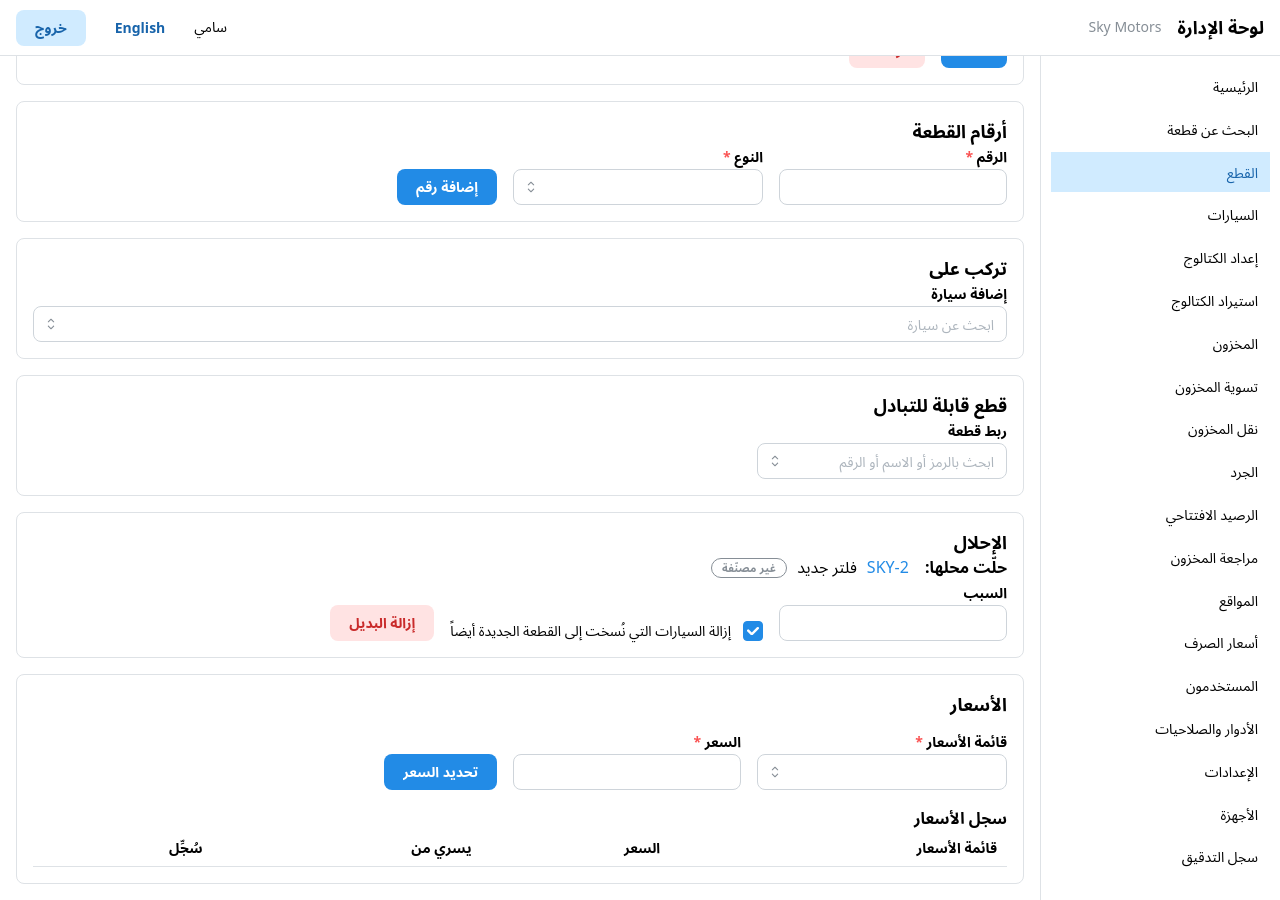
it: replacement › removes a wrong replacement, with the vehicles it copied, after asking
(page scrolled)
Type "wrong part" into the field labelled "السبب" at (893, 623), box [779,605,1007,641]
(page scrolled)
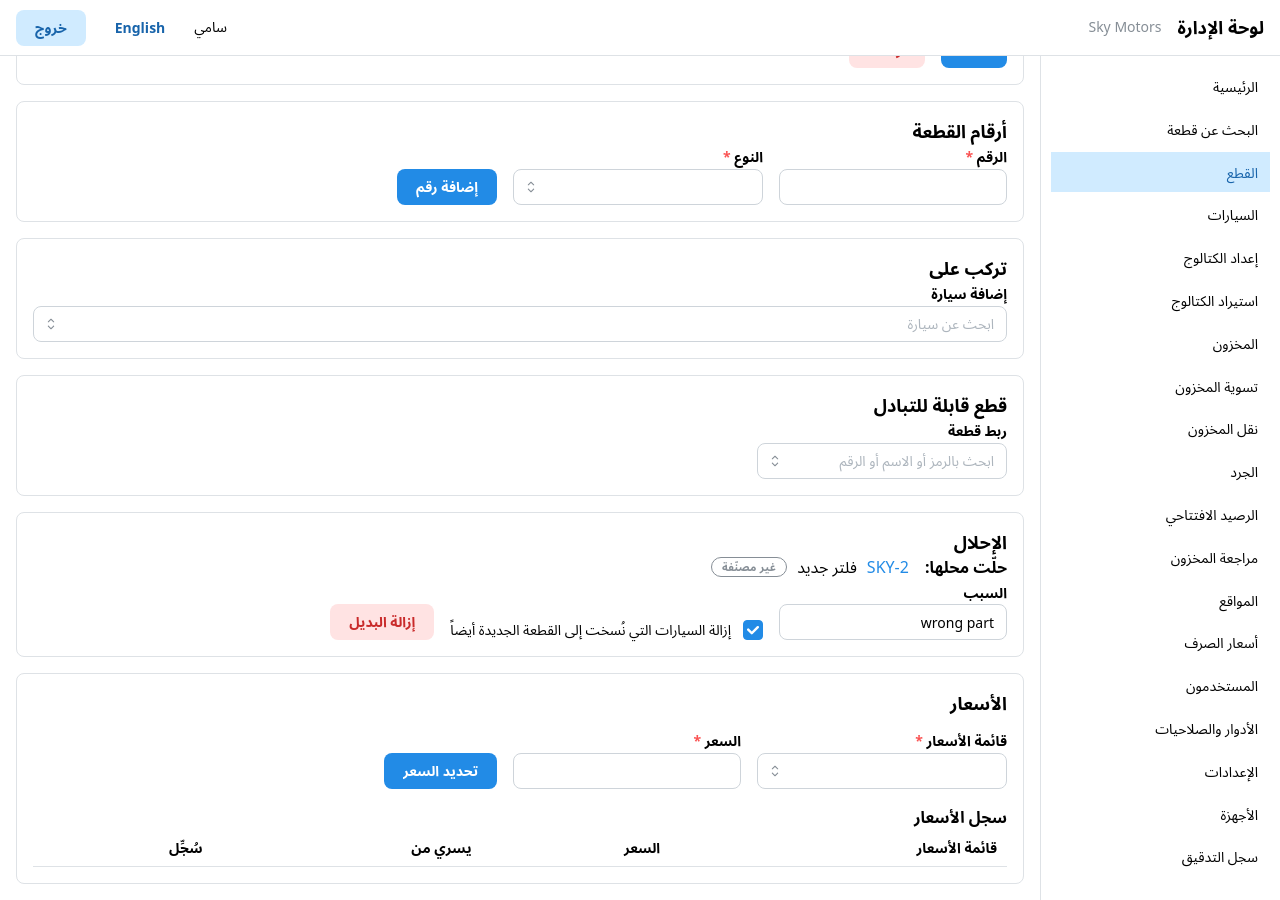
Click the button "إزالة البديل" at (382, 622), box [330,604,434,640]
(page scrolled)
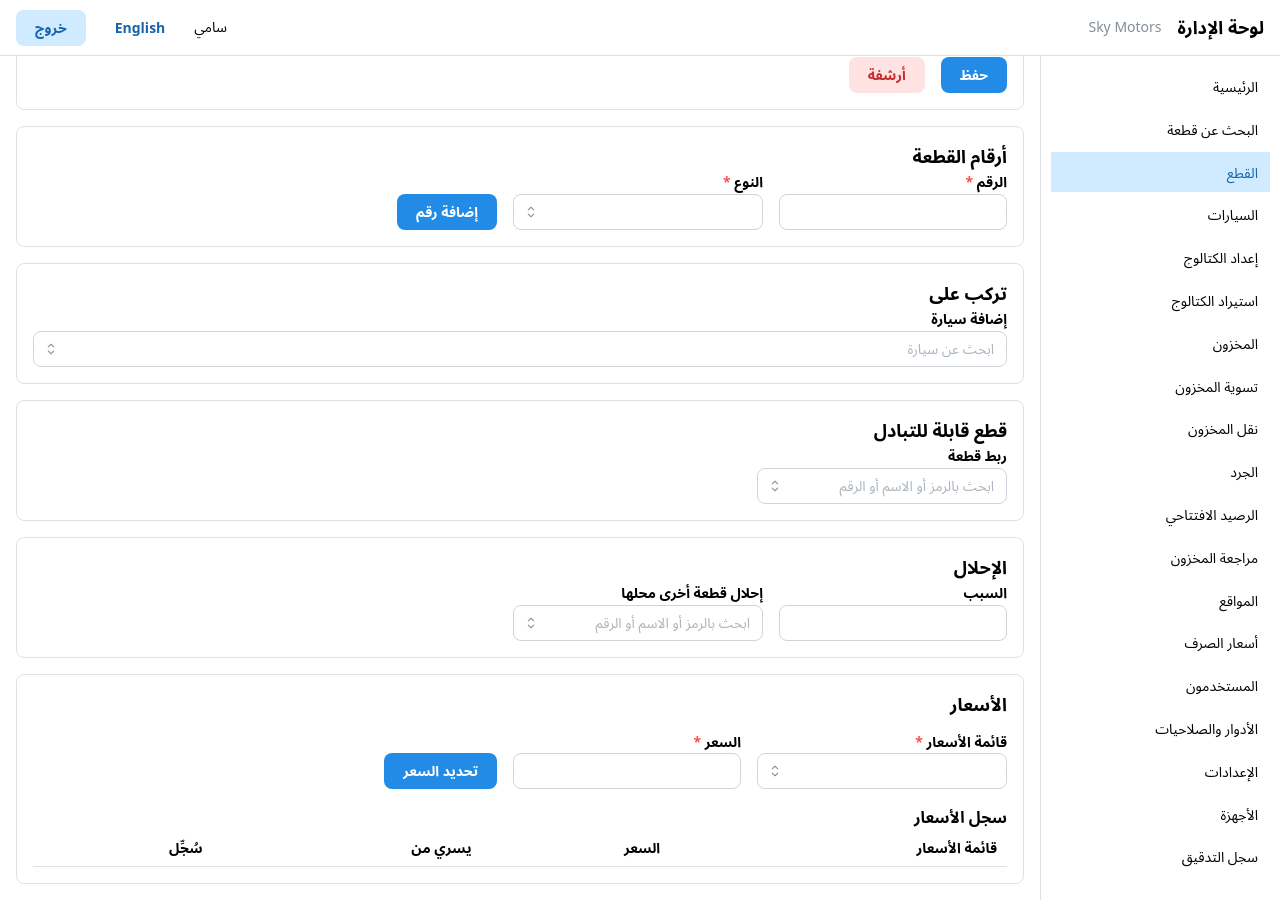
Now the button "إزالة البديل" is gone
